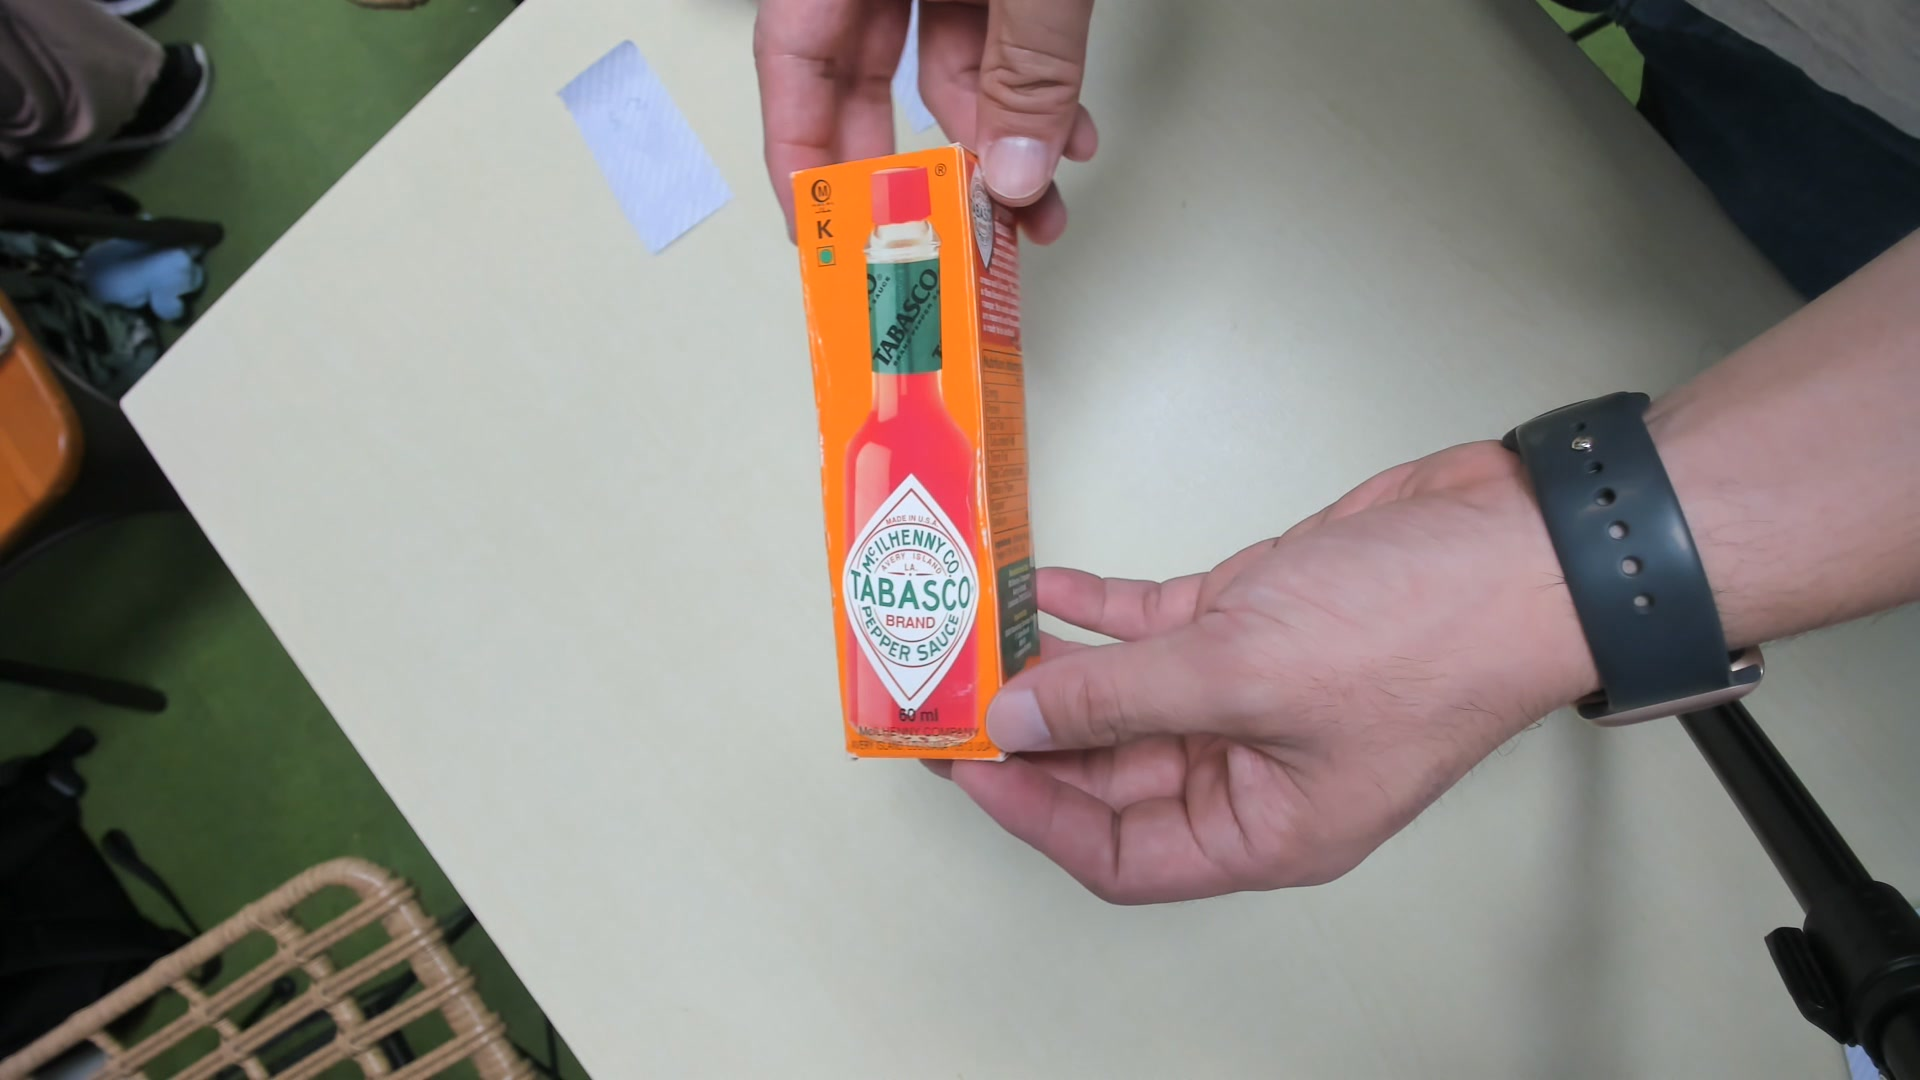KetchupChillSauce_0-99g_NonHalal_NonHealthy: (793, 146, 1044, 764)
